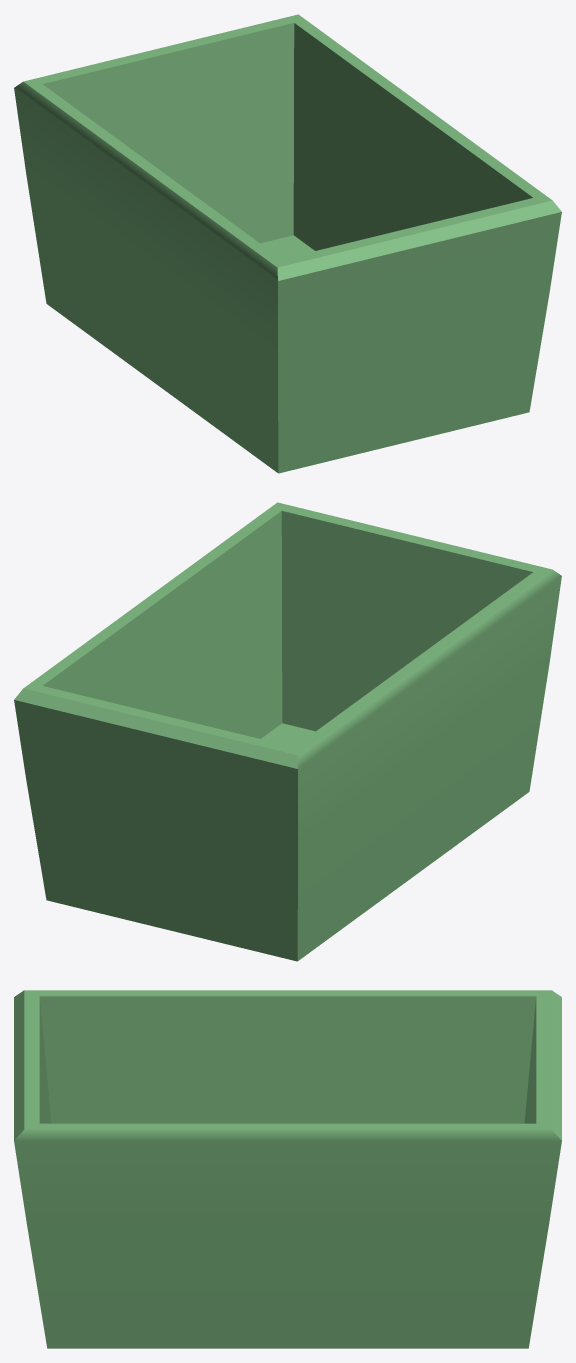
The model's file is PlasticBinFBX.fbx.
3 renders of one model, top to bottom at view 1: azimuth 30°, elevation 25°; view 2: azimuth 150°, elevation 25°; view 3: azimuth 270°, elevation 25°, orthographic. The views are drawn at different scales.
Parts seen in each view (by area): view 1: pCube1; view 2: pCube1; view 3: pCube1.
Part boxes in pixels (x1,y1,x2,y2): pCube1: (14,14,561,473); pCube1: (14,502,561,961); pCube1: (14,990,561,1348).
Size of the model in its own units: 2.83 by 2.07 by 4.55.
